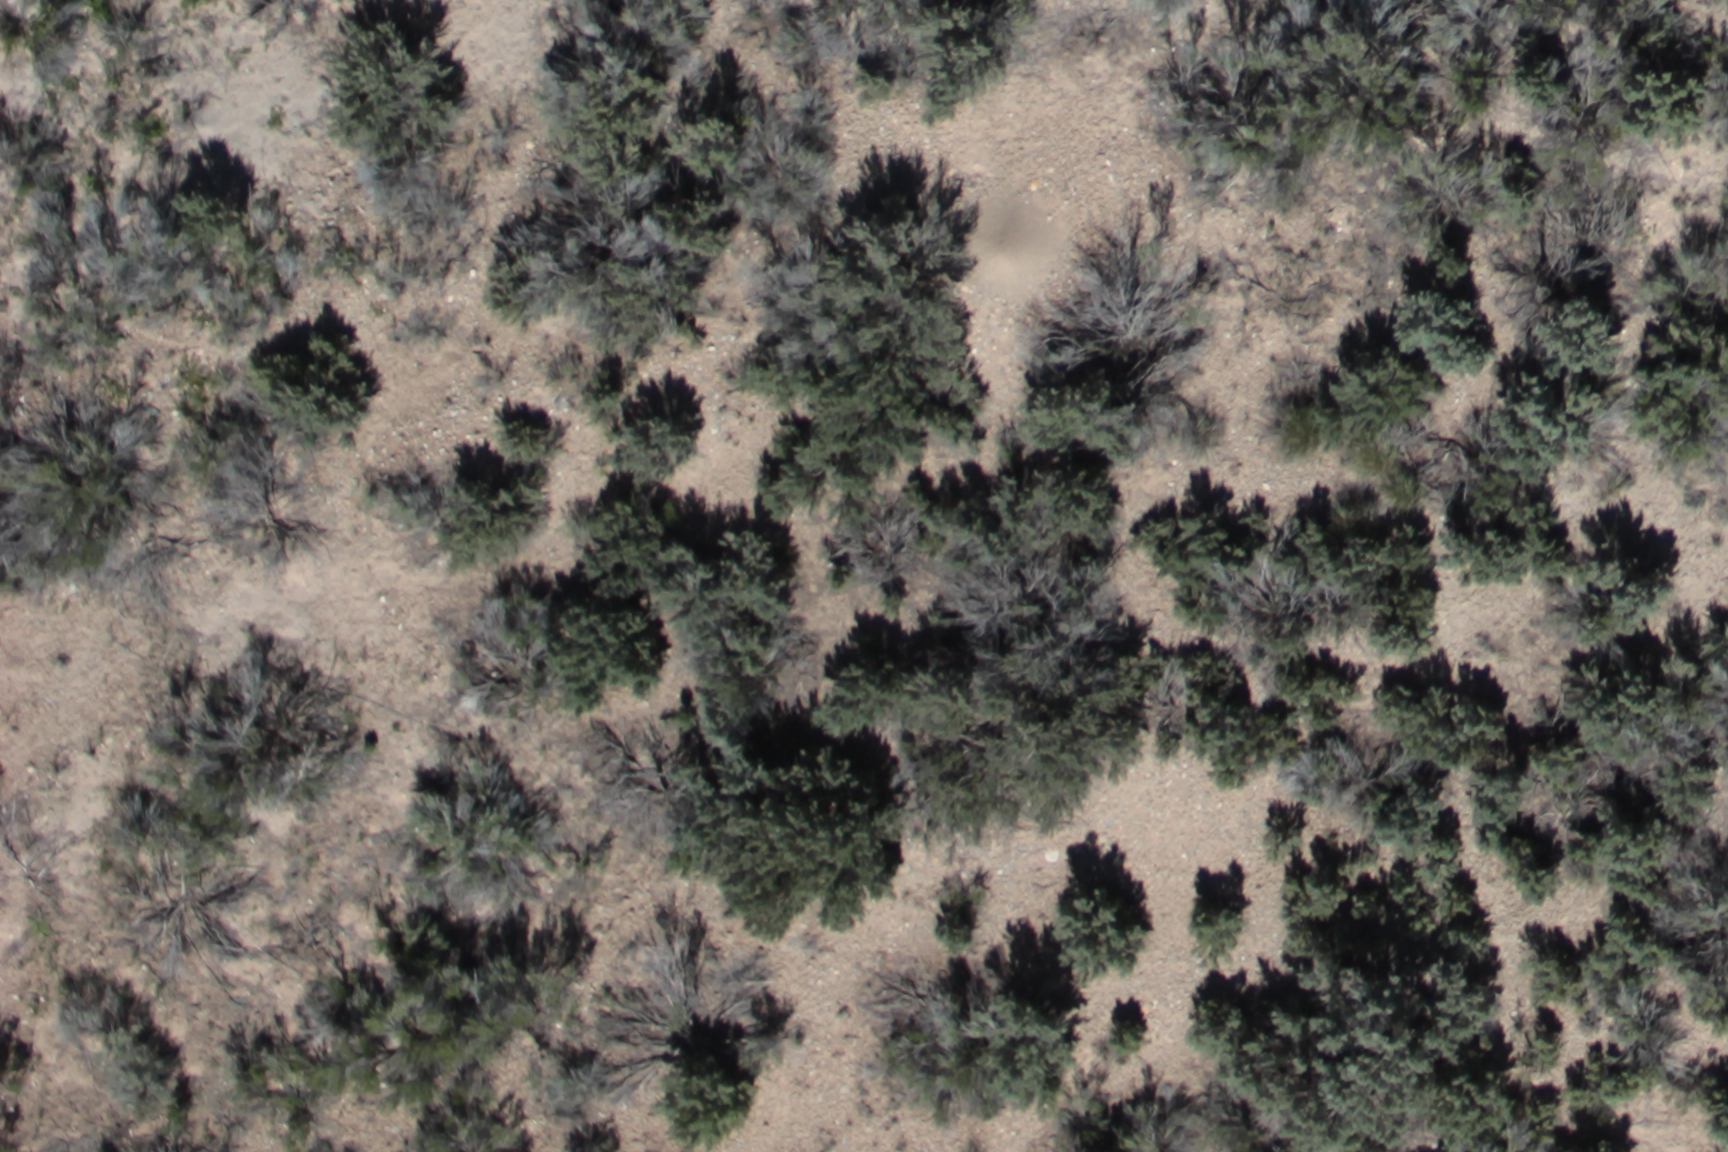burrow: (933, 181, 1061, 300)
